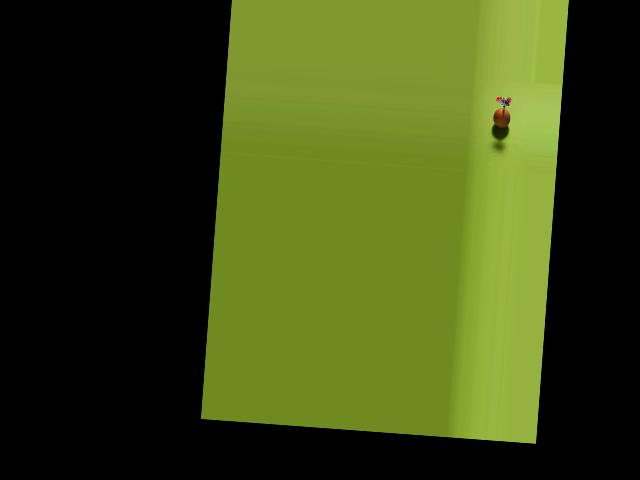egg: (493, 107, 511, 128)
